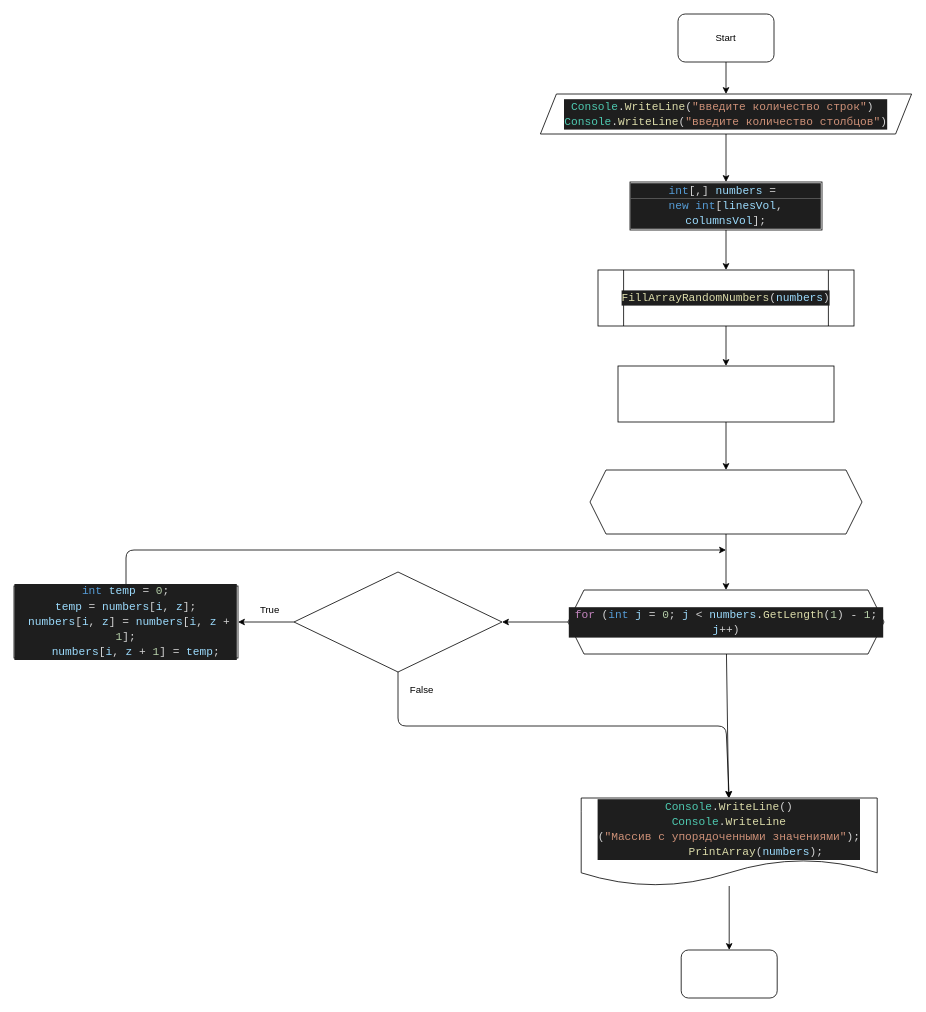
This 926x1012 diagram has some shape labels left out. Each missing label, with the centre of its shape:
Console . WriteLine (); Console . WriteLine ( "Массив до изменения" );: pixel 725 393
End: pixel 728 973
for ( int i = 0 ; i < numbers . GetLength ( 0 ); i ++): pixel 725 501
if ( numbers [ i , z ] < numbers [ i , z + 1 ]): pixel 397 621
